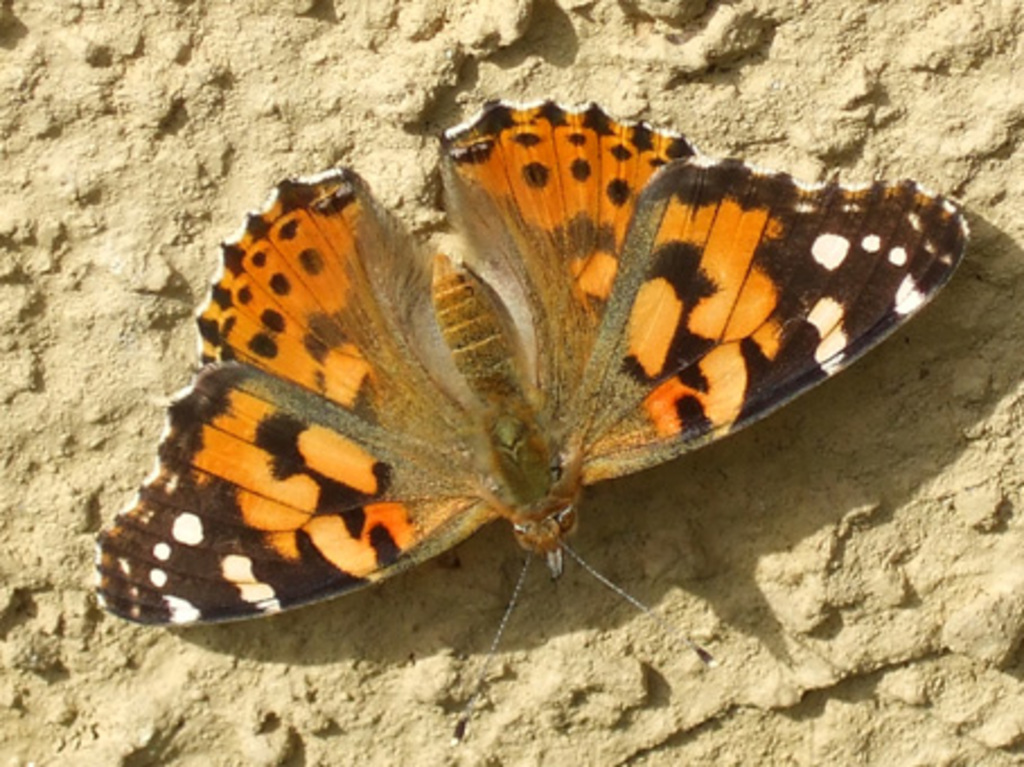Butterfly: (118, 81, 948, 661)
